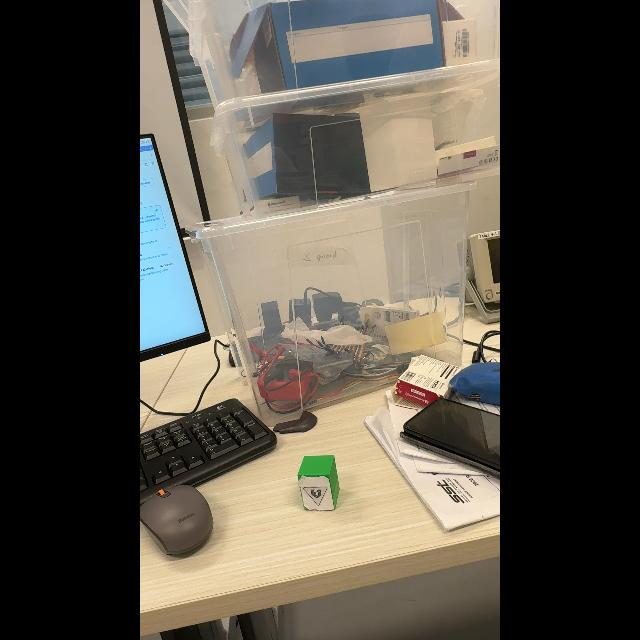Earthquake: (303, 486, 328, 505)
